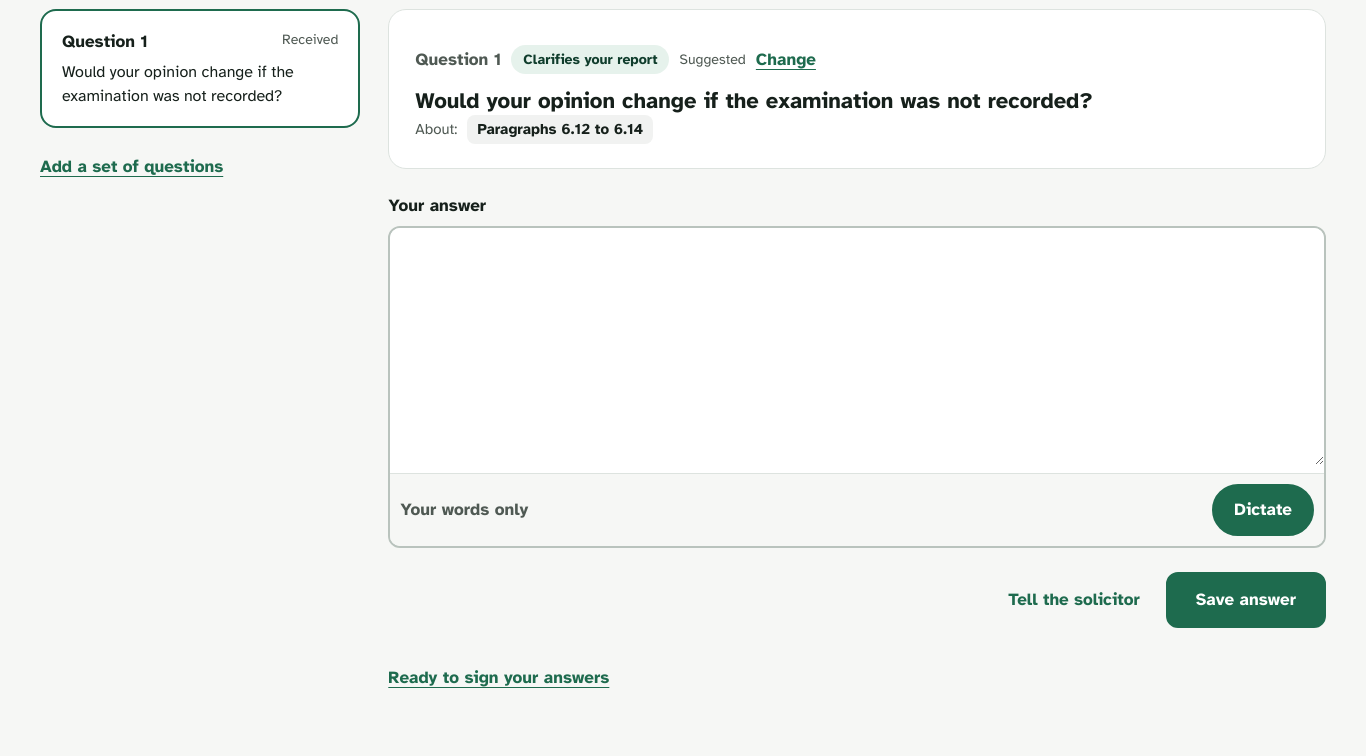
Test: telling the instructing party shows the note the server drafts, in the pack's word for them
The width and height of the screenshot is (1366, 756).
(page scrolled)
What coordinates should you click on to do the following:
click the button "Tell the solicitor"
I would click on:
 (1074, 600)
Its box is [998, 574, 1150, 626].
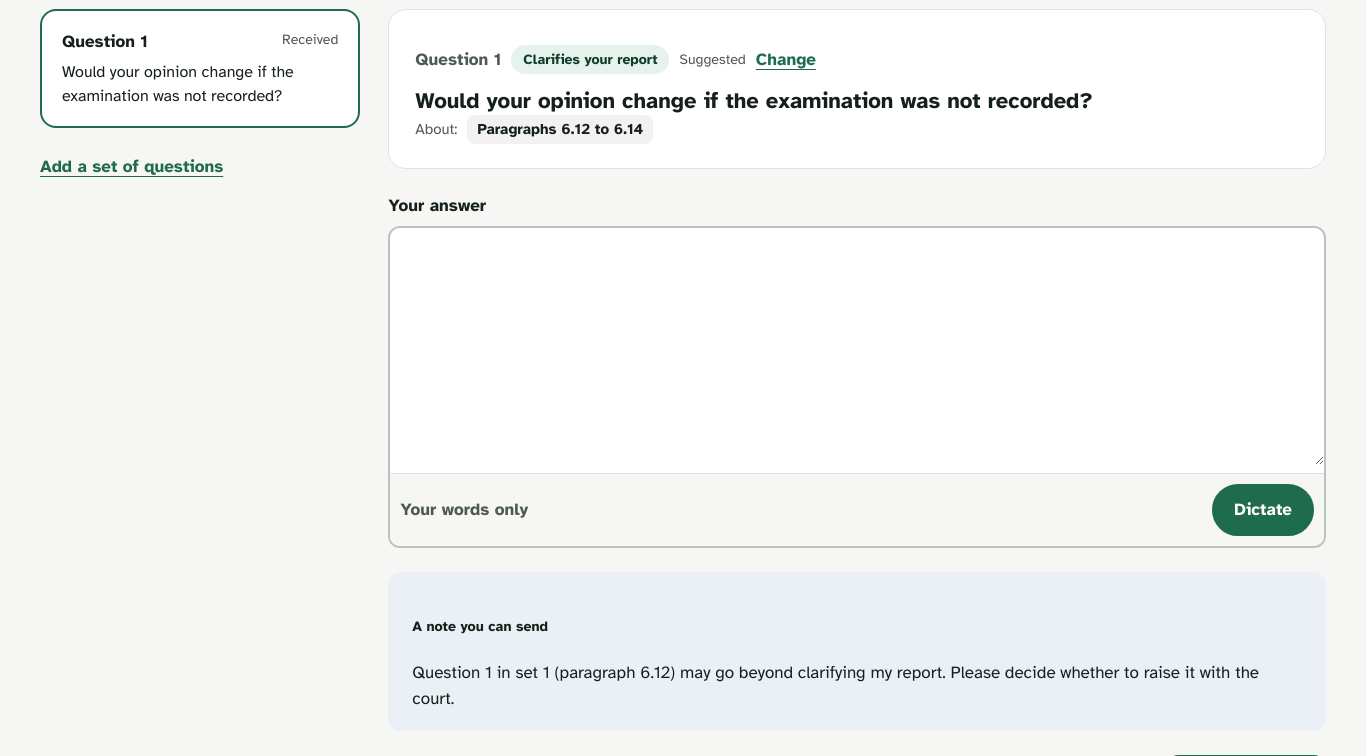
Now the text "Question 1 in set 1 (paragraph 6.12) may go beyond clarifying my report. Please decide whether to raise it with the cour" is shown, box [412, 662, 1259, 709]
